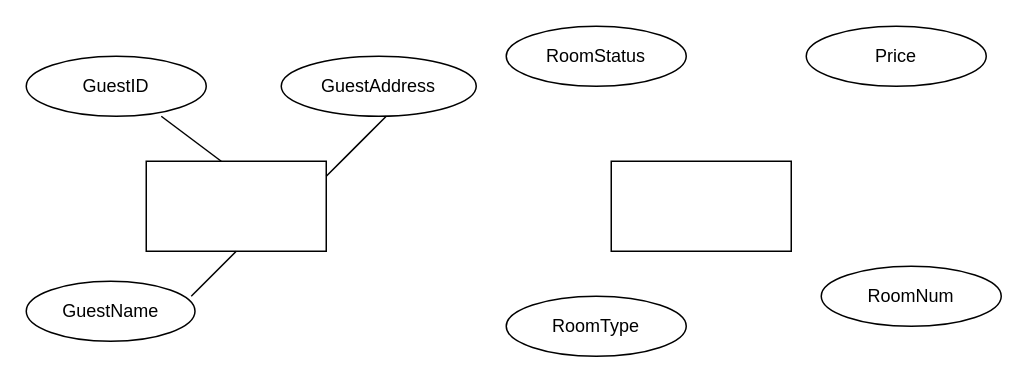
This 1028x383 diagram has some shape labels left out. The shapes that lost their labels are listed below. From the top down, each one's centre as x and y in pixels, then its label:
At pixel 235 205: "Guest Management".
At pixel 700 205: "Room Management".
